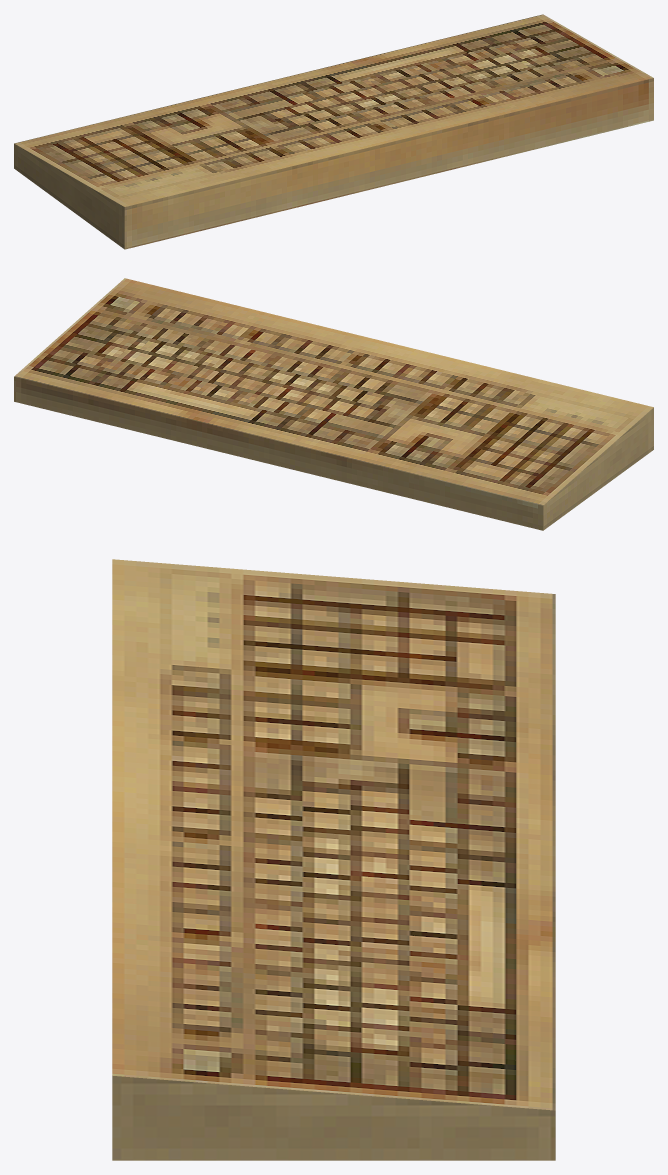
The model's file is SM_Keyboard.fbx.
3 views of the same model, one above another, from view 1: azimuth 30°, elevation 25°; view 2: azimuth 150°, elevation 25°; view 3: azimuth 270°, elevation 25° (orthographic). The views are drawn at different scales.
Parts seen in each view (by area): view 1: SM_Keyboard; view 2: SM_Keyboard; view 3: SM_Keyboard.
Boxes of the visible parts, x1=… form: SM_Keyboard: x1=14, y1=14, x2=653, y2=249; SM_Keyboard: x1=14, y1=278, x2=653, y2=530; SM_Keyboard: x1=112, y1=559, x2=555, y2=1160.
Bounding box in the file's own units: 46.91 × 3.6 × 17.01.
